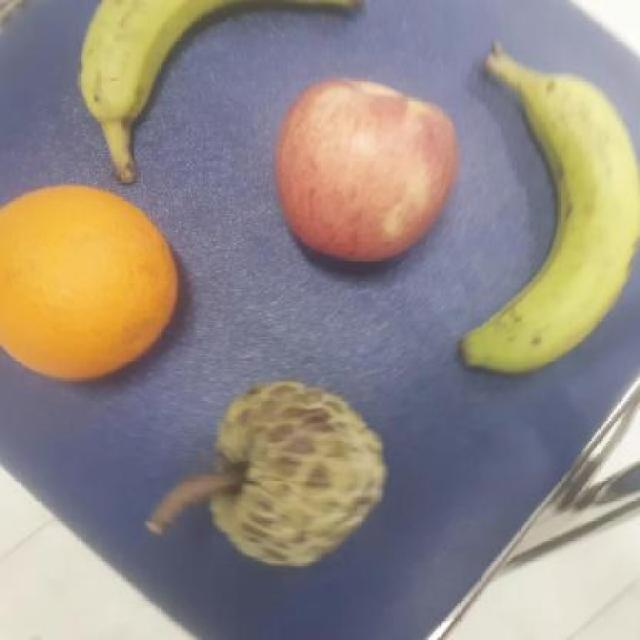apple: (271, 72, 460, 272)
banana: (459, 50, 639, 378), (74, 0, 369, 125)
oren: (1, 181, 187, 388)
sugar apple: (210, 378, 388, 570)
